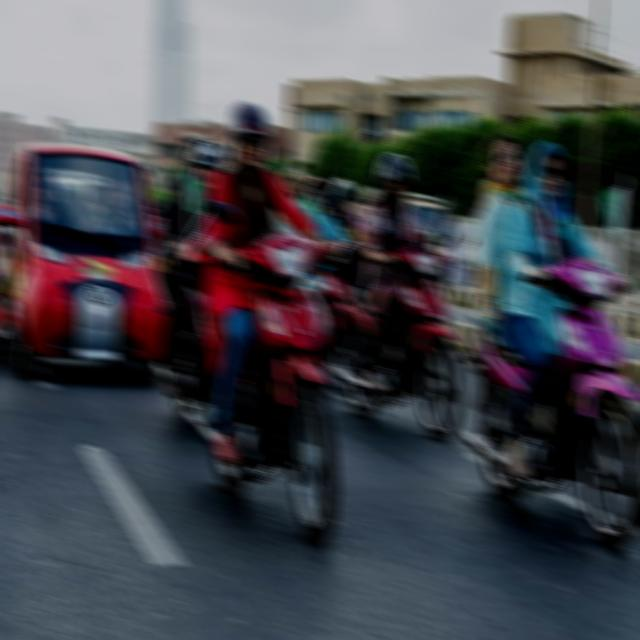With Helmet: (222, 91, 282, 177), (368, 141, 419, 210)
Without Helmet: (524, 129, 573, 205)
